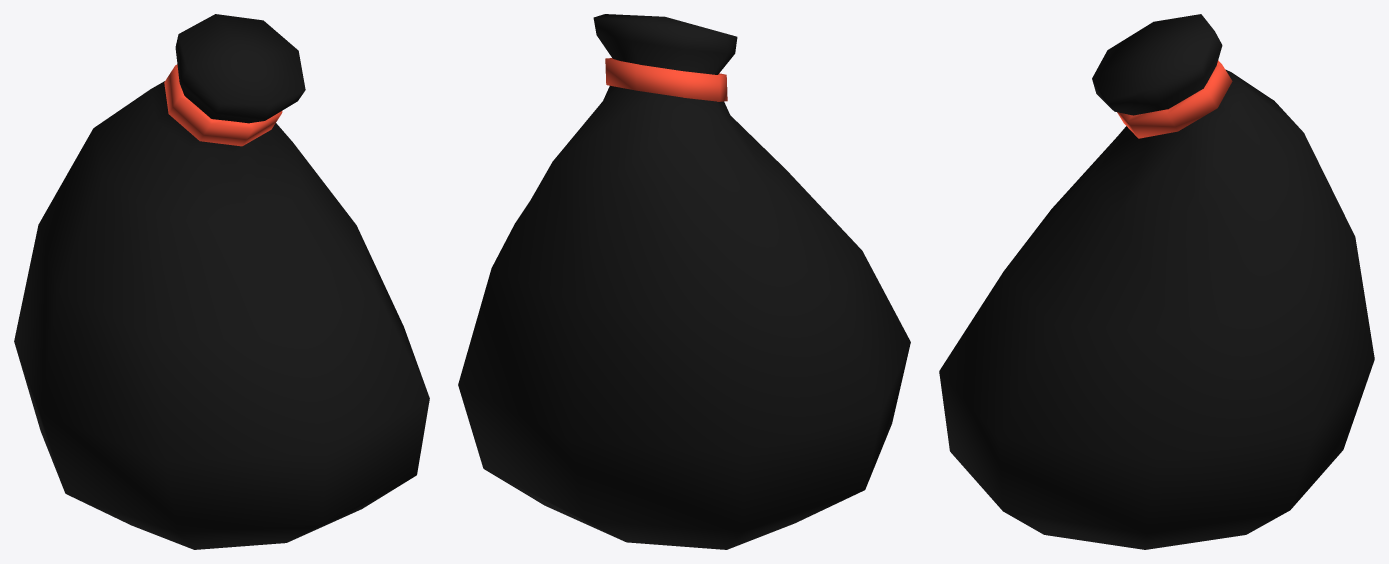
File: Trash.fbx
The picture shows the model from 3 angles, left to right: view 1: azimuth 30°, elevation 25°; view 2: azimuth 150°, elevation 25°; view 3: azimuth 270°, elevation 25°; orthographic projection. The views are drawn at different scales.
Parts seen in each view (by area): view 1: Cube; view 2: Cube; view 3: Cube.
Part boxes in pixels (x1,y1,x2,y2): Cube: (14, 14, 429, 549); Cube: (458, 14, 910, 549); Cube: (939, 14, 1374, 549).
Bounding box in the file's own units: 0.7014 × 0.8727 × 0.6969.
